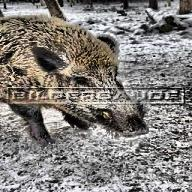boar: (0, 12, 149, 148)
